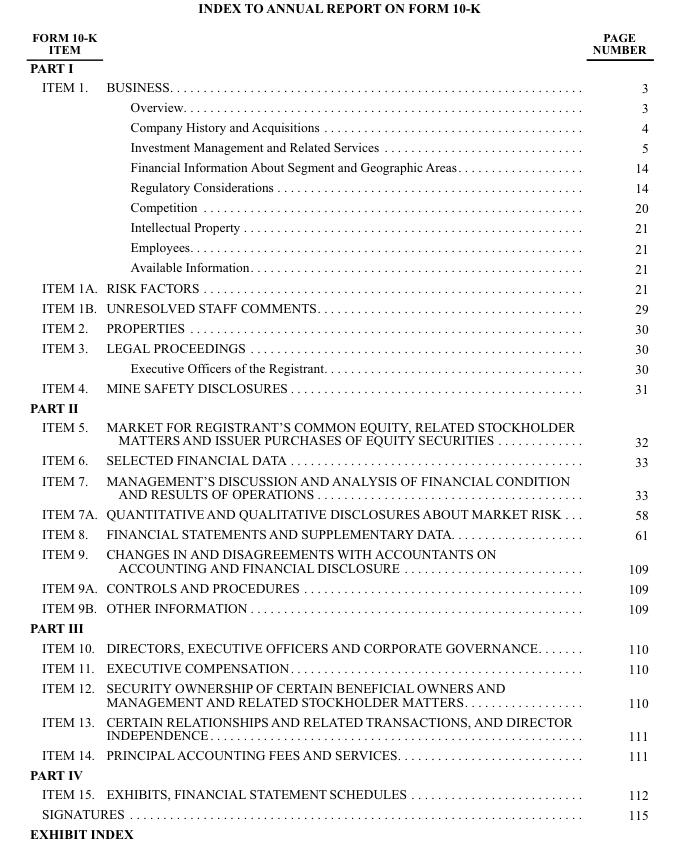table: (29, 28, 647, 823)
table column: (101, 28, 582, 823), (29, 28, 101, 823), (582, 28, 647, 823)
table column header: (29, 28, 647, 57)
table projected row header: (29, 617, 647, 637), (29, 57, 647, 76), (29, 397, 647, 416), (29, 764, 647, 783)
table row: (29, 416, 647, 450), (29, 711, 647, 745), (29, 470, 647, 503), (29, 544, 647, 577), (29, 678, 647, 711), (29, 28, 647, 57), (29, 176, 647, 197), (29, 523, 647, 544), (29, 657, 647, 678), (29, 783, 647, 804), (29, 76, 647, 96), (29, 96, 647, 116), (29, 116, 647, 136), (29, 136, 647, 156), (29, 156, 647, 176), (29, 197, 647, 217), (29, 217, 647, 237), (29, 237, 647, 257), (29, 257, 647, 277), (29, 277, 647, 297), (29, 297, 647, 317), (29, 317, 647, 337), (29, 337, 647, 357), (29, 357, 647, 377), (29, 377, 647, 397), (29, 450, 647, 470), (29, 503, 647, 523), (29, 577, 647, 597), (29, 597, 647, 617), (29, 617, 647, 637), (29, 637, 647, 657), (29, 57, 647, 76), (29, 397, 647, 416), (29, 745, 647, 764), (29, 764, 647, 783), (29, 804, 647, 823)
table spanning cell: (29, 76, 101, 277), (29, 804, 582, 823), (29, 337, 101, 377)
